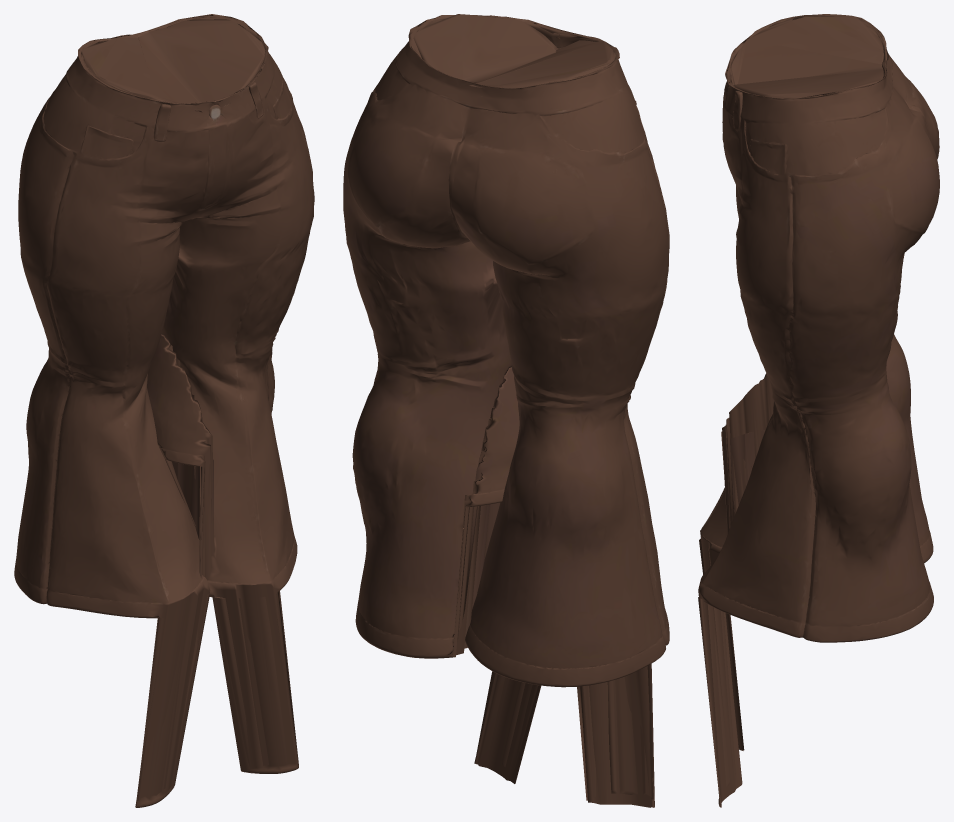
The model's file is bottom_f_flare.glb.
3 views of the same model, side by side, from view 1: azimuth 30°, elevation 25°; view 2: azimuth 150°, elevation 25°; view 3: azimuth 270°, elevation 25° (orthographic). The views are drawn at different scales.
Visible parts, largest first — view 1: f_flare; view 2: f_flare; view 3: f_flare.
Boxes of the visible parts, x1,y1,x2,y2 form: f_flare: (14, 14, 314, 807); f_flare: (343, 14, 669, 807); f_flare: (698, 14, 939, 807).
Size of the model in its own units: 0.5092 by 1.26 by 0.3841.
Materials: 1 (1 with a texture image).
